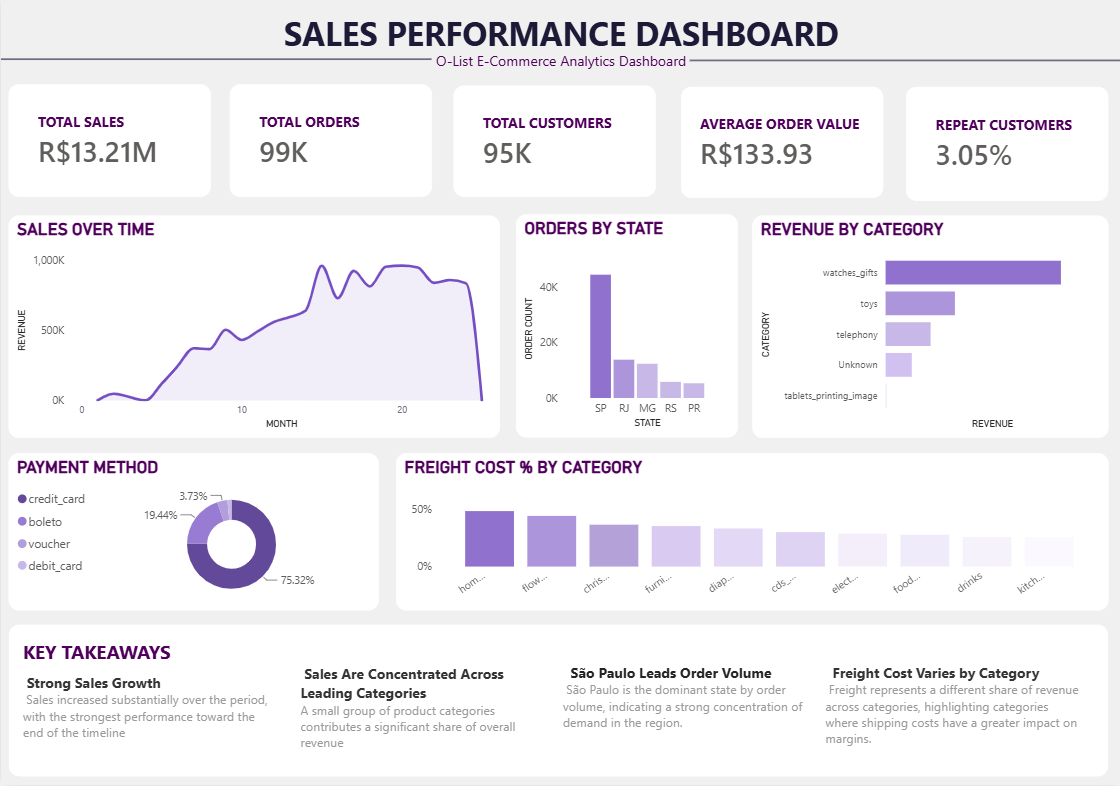

The dashboard page shown, as its layout file describes it:
{"tool":"powerbi","page":{"name":"Page 1","canvas":[1280,900],"ordinal":0},"visuals":[{"type":"cardVisual","title":"AVERAGE ORDER VALUE","fields":{"Data":["sales_analysis_cleaned.Average Order Value"]},"box":[777.1,101.4,231.4,127.1],"z":0},{"type":"textbox","box":[0,10.2,1280.5,67.7],"z":1000},{"type":"textbox","box":[0,55.3,1280.5,44],"z":2000},{"type":"lineChart","title":"SALES OVER TIME ","fields":{"Category":["DateTable.MonthNumber"],"Y":["DateTable.Revenue for Chart"]},"box":[8.6,248.6,561.4,254.3],"z":3000},{"type":"shape","box":[0,27.8,492.2,85.6],"z":4000},{"type":"shape","box":[787.8,28.9,492.2,85.6],"z":5000},{"type":"clusteredBarChart","title":"REVENUE BY CATEGORY","fields":{"Category":["sales_analysis_cleaned.product_category_name_english"],"Y":["sales_analysis_cleaned.Total Revenue"]},"box":[858.6,248.6,407.1,254.3],"z":6000},{"type":"cardVisual","fields":{"Data":["sales_analysis_cleaned.Total Customers"]},"box":[517.1,100,231.4,127.1],"z":7000},{"type":"cardVisual","fields":{"Data":["sales_analysis_cleaned.Total Orders"]},"box":[261.4,98.6,231.4,128.6],"z":8000},{"type":"cardVisual","fields":{"Data":["sales_analysis_cleaned.Total Revenue"]},"box":[8.6,98.6,231.4,128.6],"z":9000},{"type":"cardVisual","fields":{"Data":["DateTable.Repeat Customer Rate"]},"box":[1034.3,101.4,231.4,130],"z":10000},{"type":"donutChart","title":"PAYMENT METHOD","fields":{"Category":["sales_analysis_cleaned.payment_type"],"Y":["DateTable.% of Orders by Payment Type"]},"box":[8.3,520,423.3,180],"z":11000},{"type":"clusteredColumnChart","title":"ORDERS BY STATE","fields":{"Category":["sales_analysis_cleaned.customer_state"],"Y":["CountNonNull(sales_analysis_cleaned.order_id)"]},"box":[588.6,247.1,253.3,255],"z":12000},{"type":"clusteredColumnChart","title":"FREIGHT COST % BY CATEGORY","fields":{"Category":["sales_analysis_cleaned.product_category_name_english"],"Y":["sales_analysis_cleaned.Freight as % of Revenue"]},"box":[451.4,520,814.3,180],"z":13000},{"type":"shape","box":[8.6,715.7,1257.1,174.3],"z":14000},{"type":"textbox","box":[20,727.1,517.1,52.9],"z":15000},{"type":"textbox","box":[20,765.7,300,101.4],"z":16000},{"type":"textbox","box":[337.1,755.7,300,122.9],"z":17000},{"type":"textbox","box":[637.1,754.3,300,101.4],"z":18000},{"type":"textbox","box":[937.1,754.3,300,112.9],"z":19000}]}

Visuals, with their boxes in screenshot pixels (x1, y1, x2, y2), scaled from the page's 1280x900 canvas onto the 1120x786 screenshot:
"AVERAGE ORDER VALUE" cardVisual: <region>680, 89, 882, 200</region>
textbox: <region>0, 9, 1119, 68</region>
textbox: <region>0, 48, 1119, 87</region>
"SALES OVER TIME " lineChart: <region>8, 217, 499, 439</region>
shape: <region>0, 24, 431, 99</region>
shape: <region>689, 25, 1119, 100</region>
"REVENUE BY CATEGORY" clusteredBarChart: <region>751, 217, 1107, 439</region>
cardVisual - sales_analysis_cleaned.Total Customers: <region>452, 87, 655, 198</region>
cardVisual - sales_analysis_cleaned.Total Orders: <region>229, 86, 431, 198</region>
cardVisual - sales_analysis_cleaned.Total Revenue: <region>8, 86, 210, 198</region>
cardVisual - DateTable.Repeat Customer Rate: <region>905, 89, 1107, 202</region>
"PAYMENT METHOD" donutChart: <region>7, 454, 378, 611</region>
"ORDERS BY STATE" clusteredColumnChart: <region>515, 216, 737, 439</region>
"FREIGHT COST % BY CATEGORY" clusteredColumnChart: <region>395, 454, 1107, 611</region>
shape: <region>8, 625, 1107, 777</region>
textbox: <region>18, 635, 470, 681</region>
textbox: <region>18, 669, 280, 757</region>
textbox: <region>295, 660, 557, 767</region>
textbox: <region>557, 659, 820, 747</region>
textbox: <region>820, 659, 1082, 757</region>
